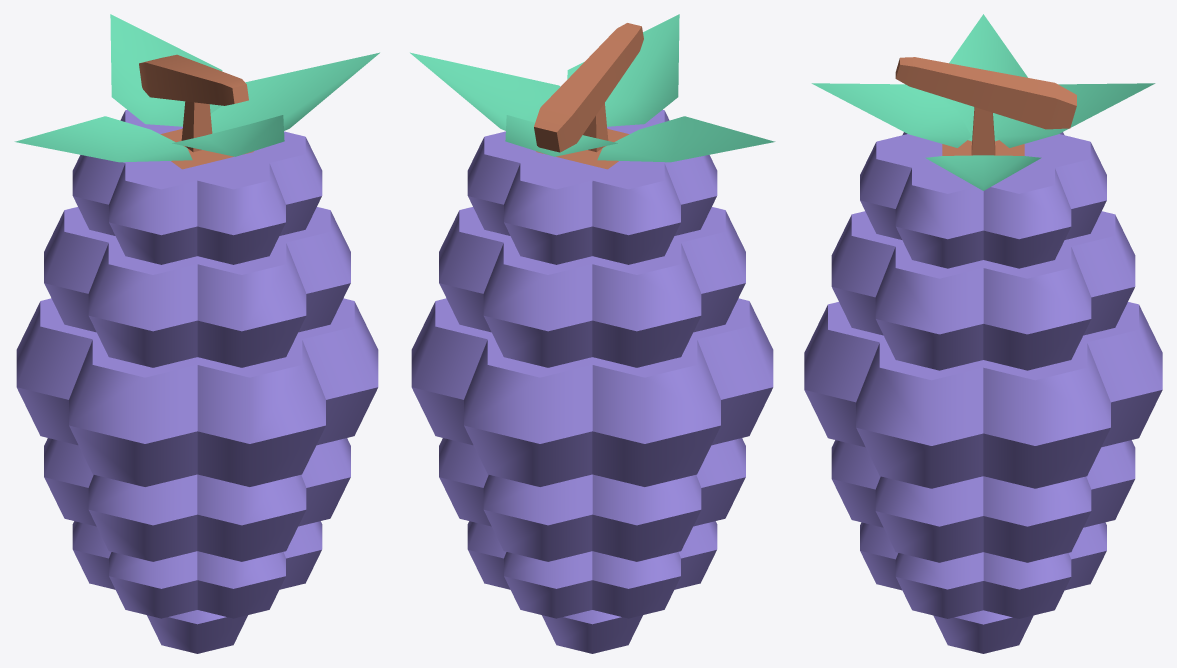
Rendered from grapes.GLB.
3 views of the same model, side by side, from view 1: azimuth 30°, elevation 25°; view 2: azimuth 150°, elevation 25°; view 3: azimuth 270°, elevation 25° (orthographic).
Parts seen in each view (by area): view 1: grapes; view 2: grapes; view 3: grapes.
Boxes of the visible parts, bbox=[...] form: grapes: bbox=[14, 14, 379, 653]; grapes: bbox=[410, 14, 775, 653]; grapes: bbox=[804, 14, 1162, 653].
Bounding box in the file's own units: 0.279 × 0.4226 × 0.2386.
